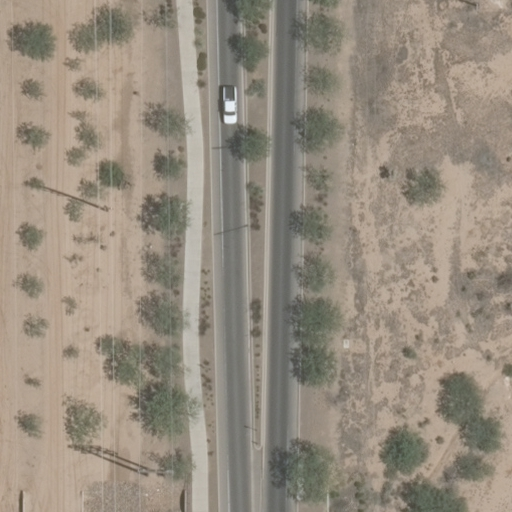DT: (136, 463, 180, 480), (88, 195, 114, 220)
